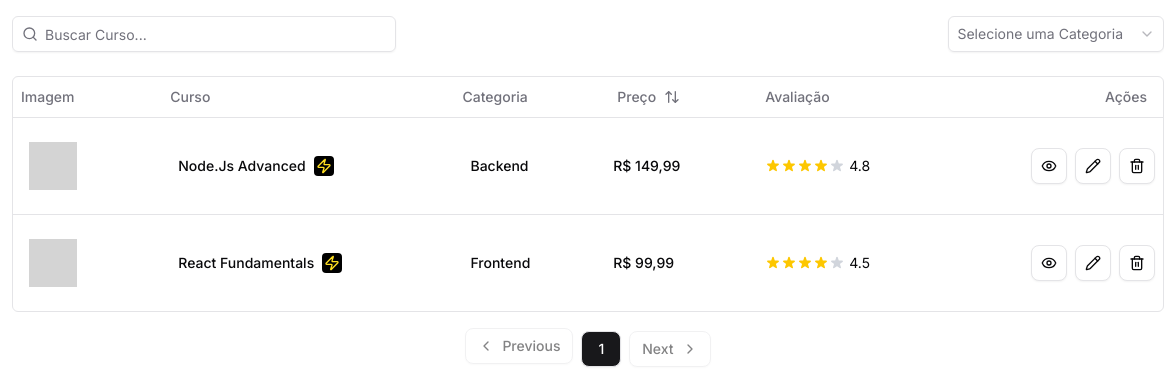
Scenario: CourseData Component › deve exibir mensagem quando nenhum curso é encontrado
This screenshot has width=1176, height=384.
Type "Curso Inexistente" into the field with placeholder "Buscar Curso...".
click(204, 34); type("Curso Inexistente")  # box [12,16,396,52]
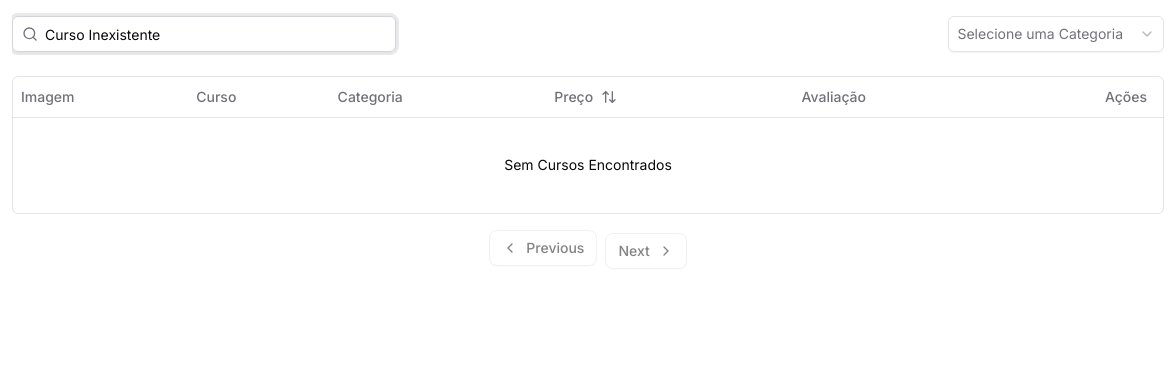
Now the text "Sem Cursos Encontrados" is shown, box [13,117,1163,213]
